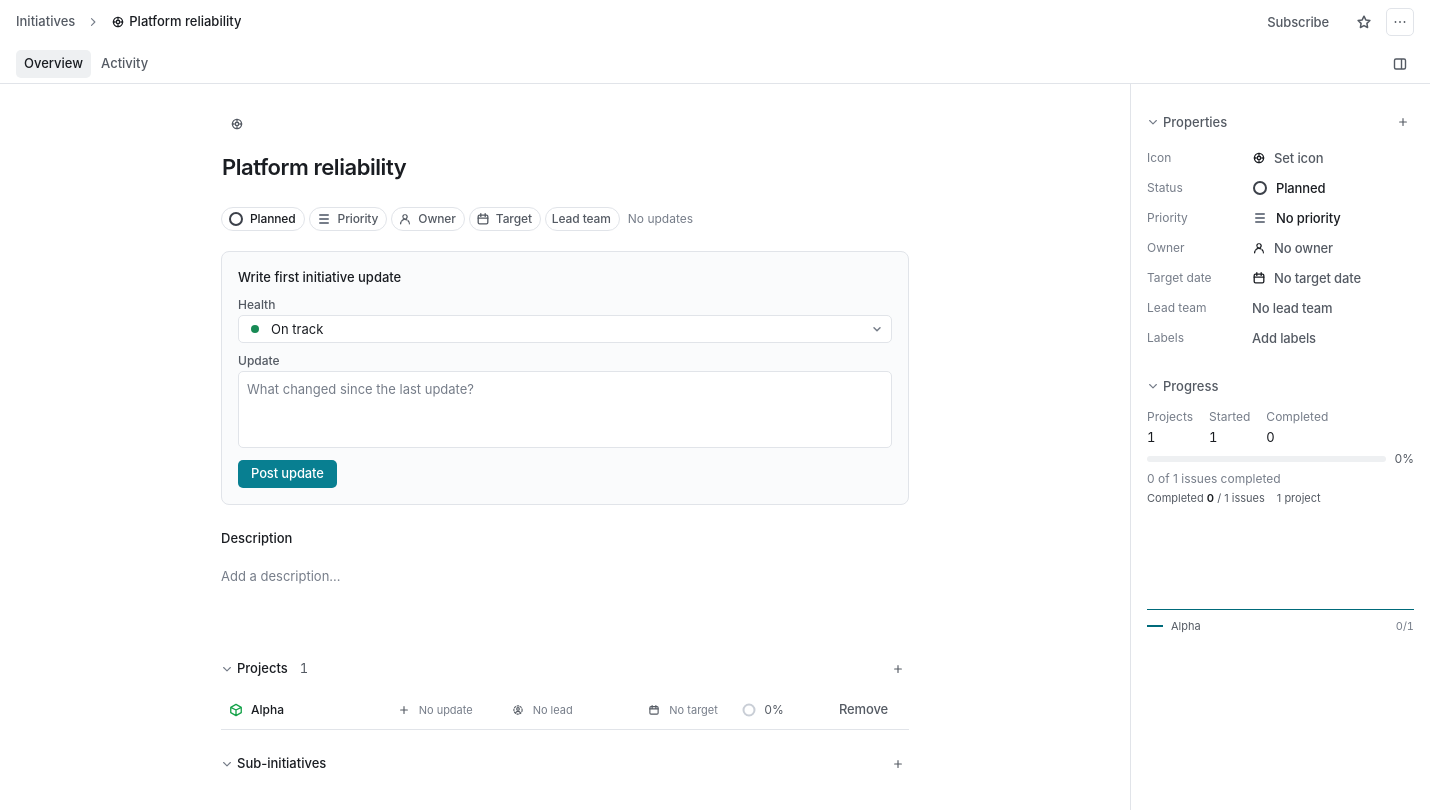
it: the initiative rail › folds a section away, writes the fold down, and unfolds it again
Click the button "Progress". click: (1183, 386)
box: [1143,372,1222,400]
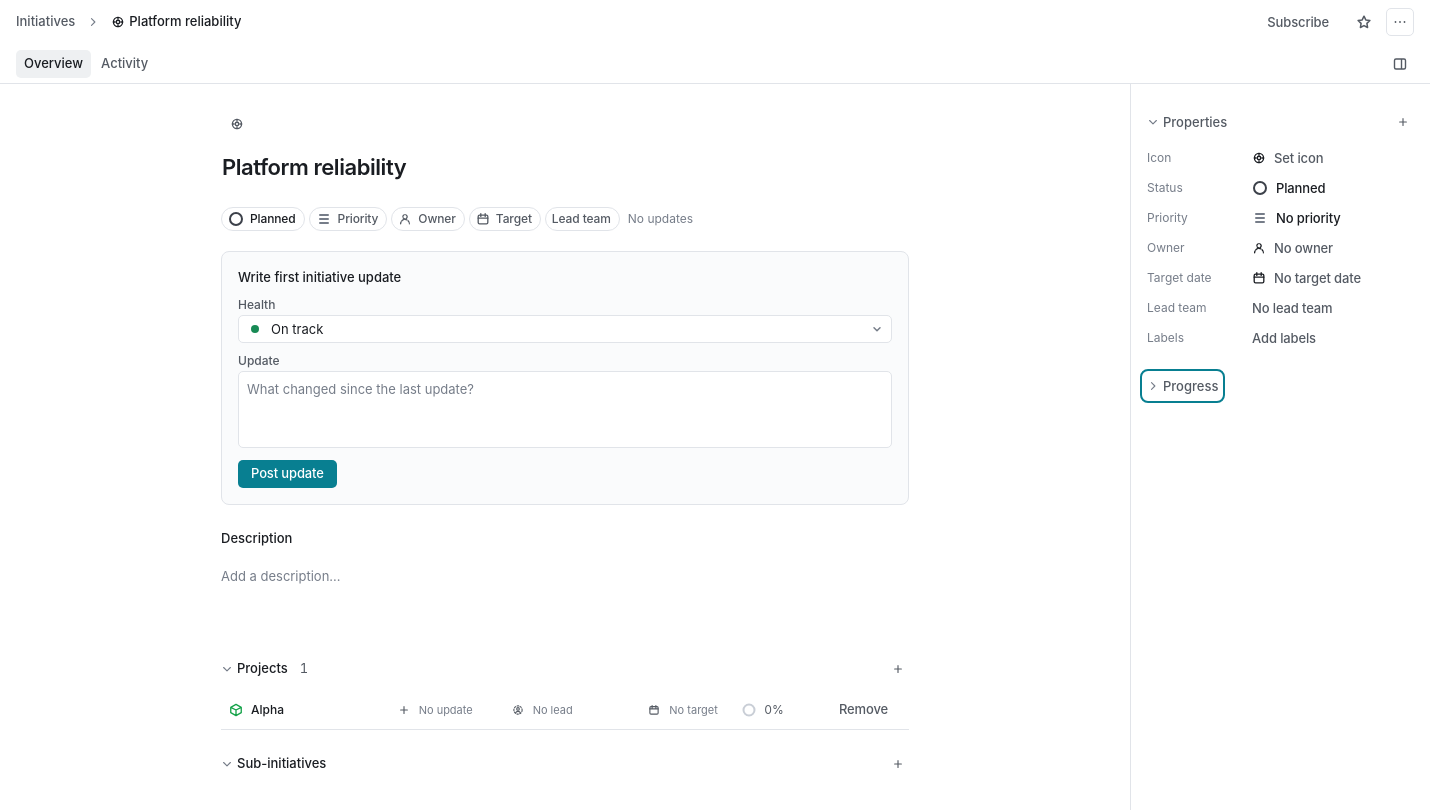
Click the button "Progress". click: (1183, 386)
box: [1143,372,1222,400]
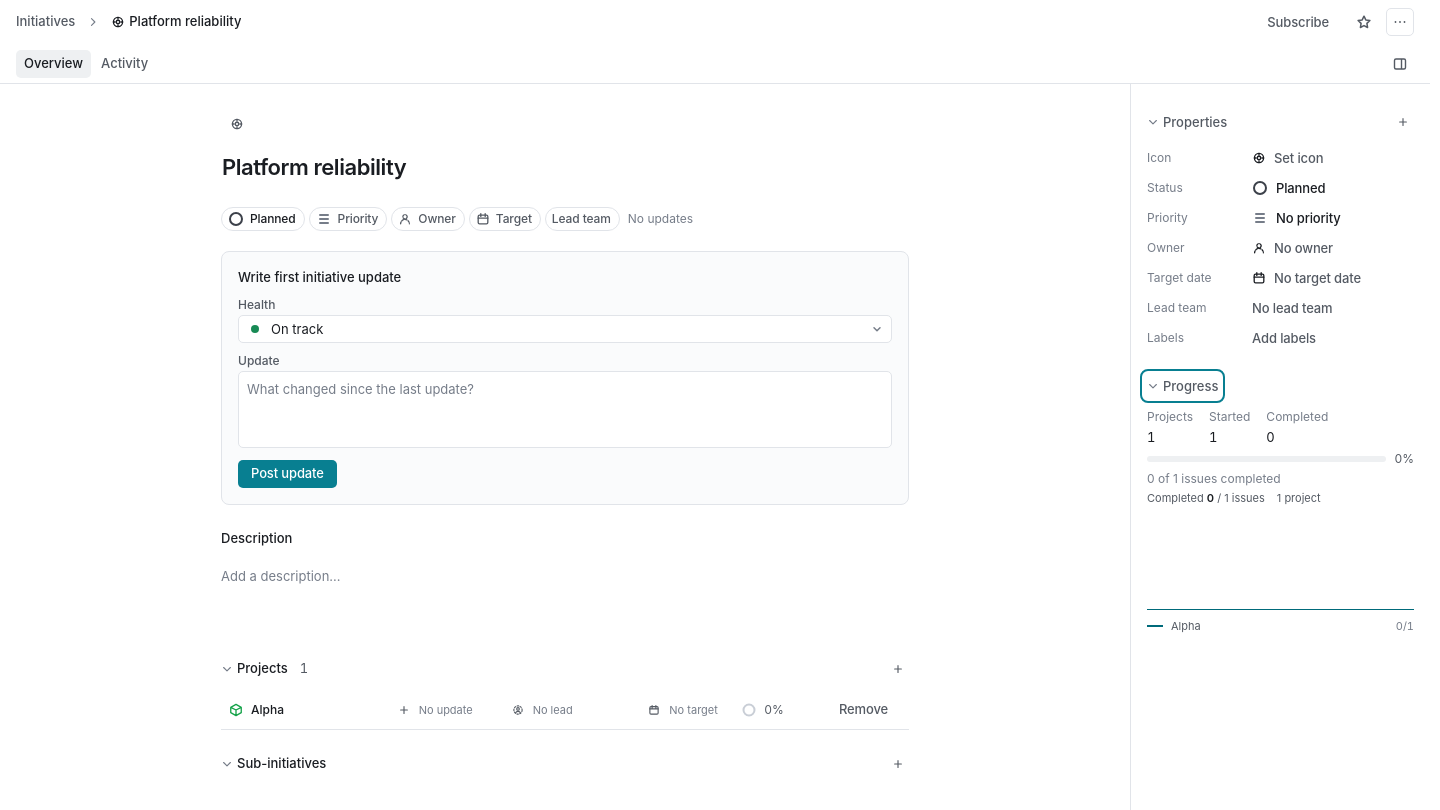
Check: the picture named "Initiative graph" is shown, box [1147,514,1414,610]
